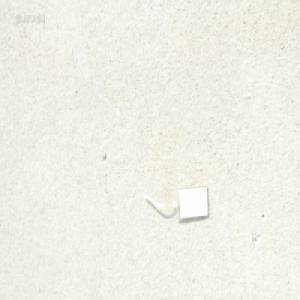LuggageTag: (139, 181, 210, 223)
